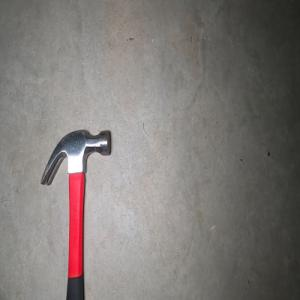Hammer: (39, 128, 111, 300)
